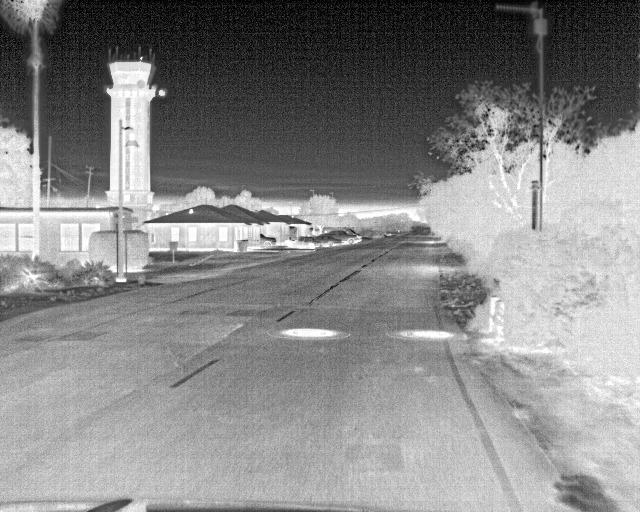car: (283, 236, 322, 249), (303, 233, 341, 246), (332, 233, 364, 247), (257, 232, 276, 250)
